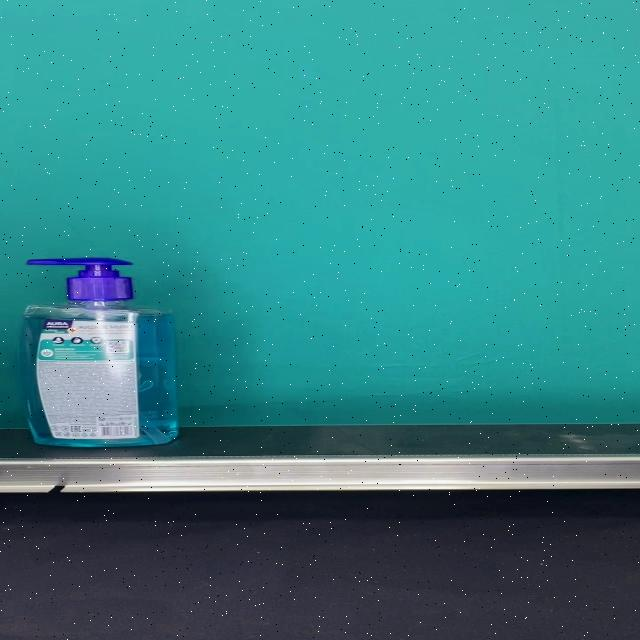Bottle: (18, 257, 179, 447)
Cap: (28, 258, 132, 300)
